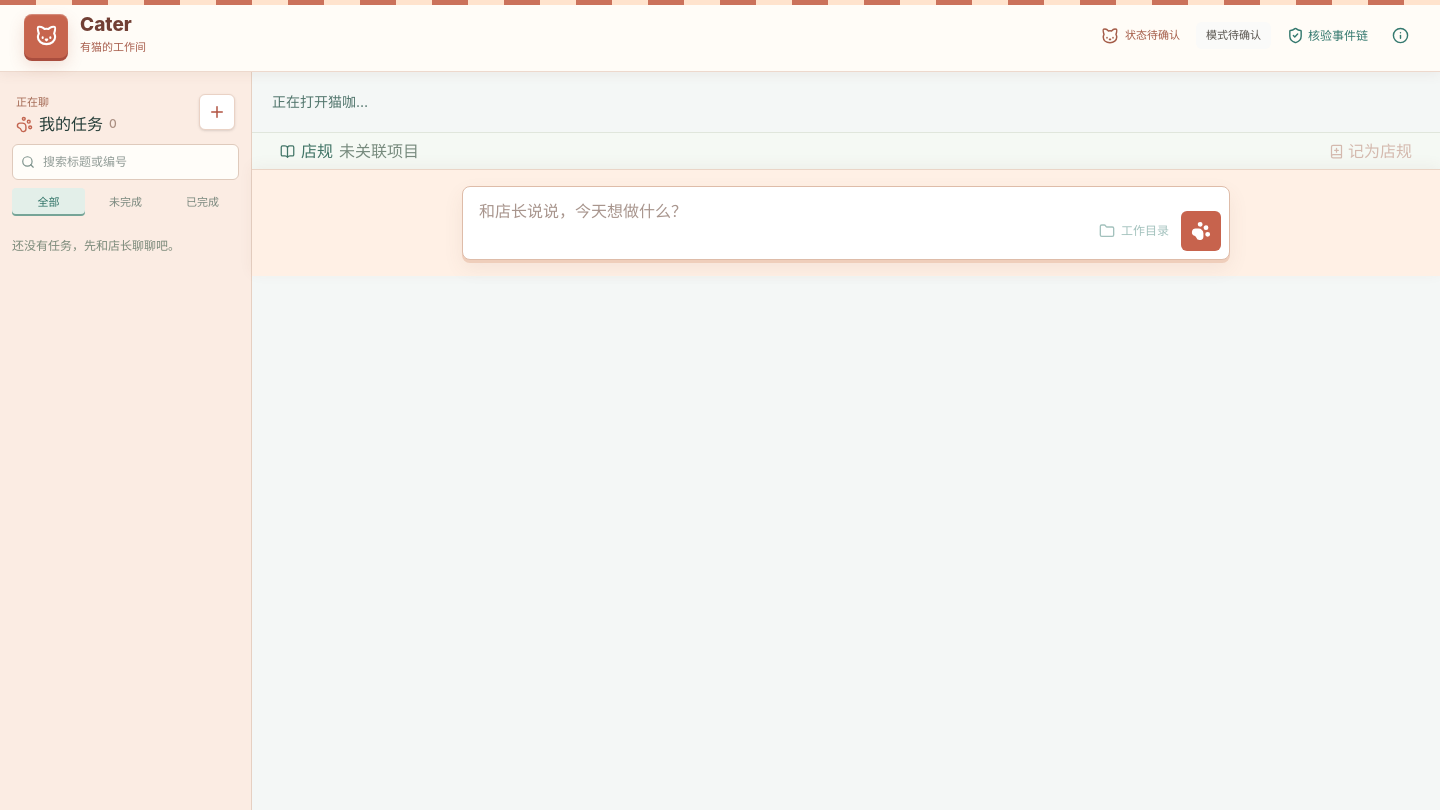
Test: 备用名单迟到失败不污染已就绪伙伴资料或聊天错误
Click the button with aria-label "今天在店里". click: click(1140, 36)
box: [1093,20,1188,50]
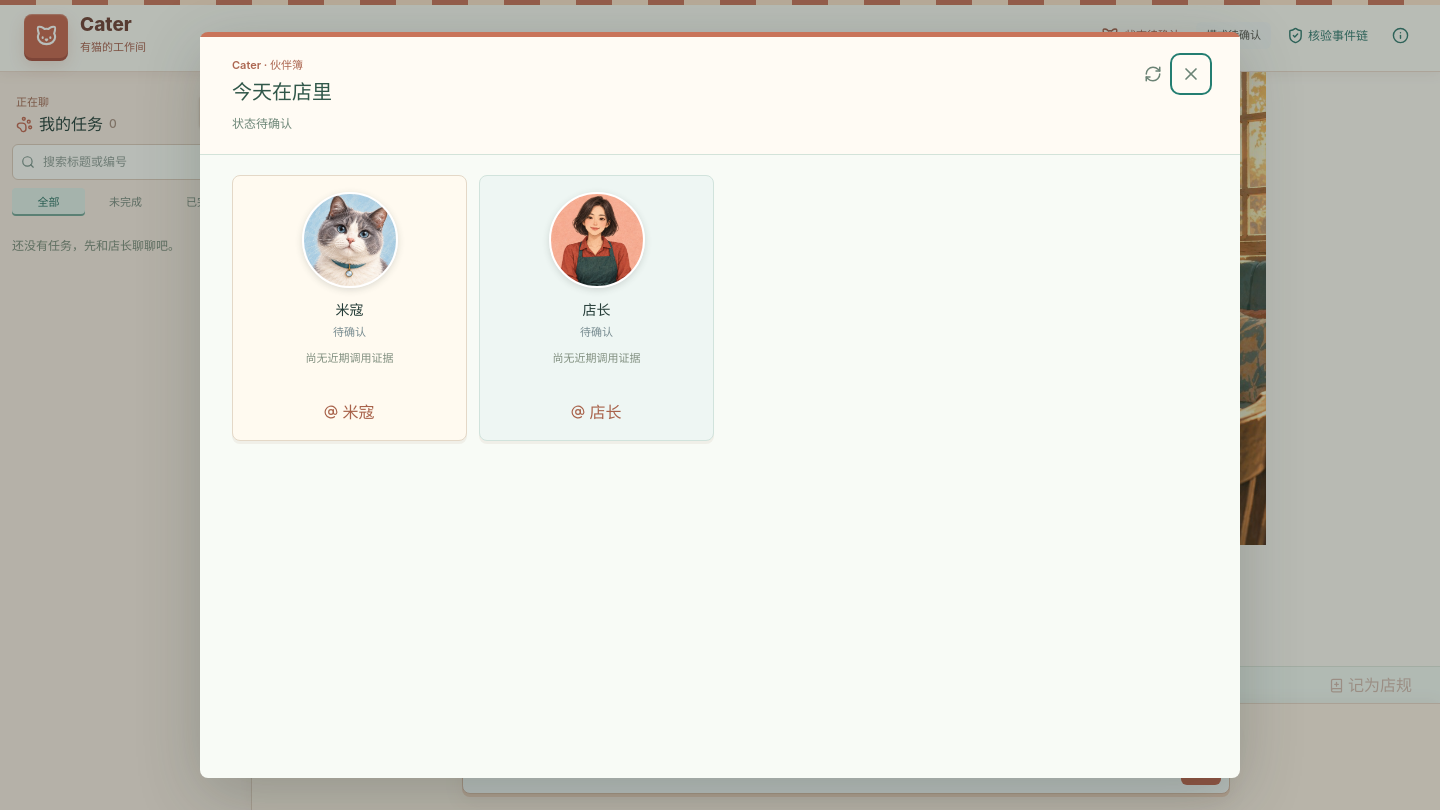
expect the button with aria-label "点名 米寇" is shown: met, box [324,400,374,424]
expect the message "正在打开猫咖…" is gone: met
Click the button named "关闭伙伴页". click: click(1191, 74)
box: [1174,57,1208,91]
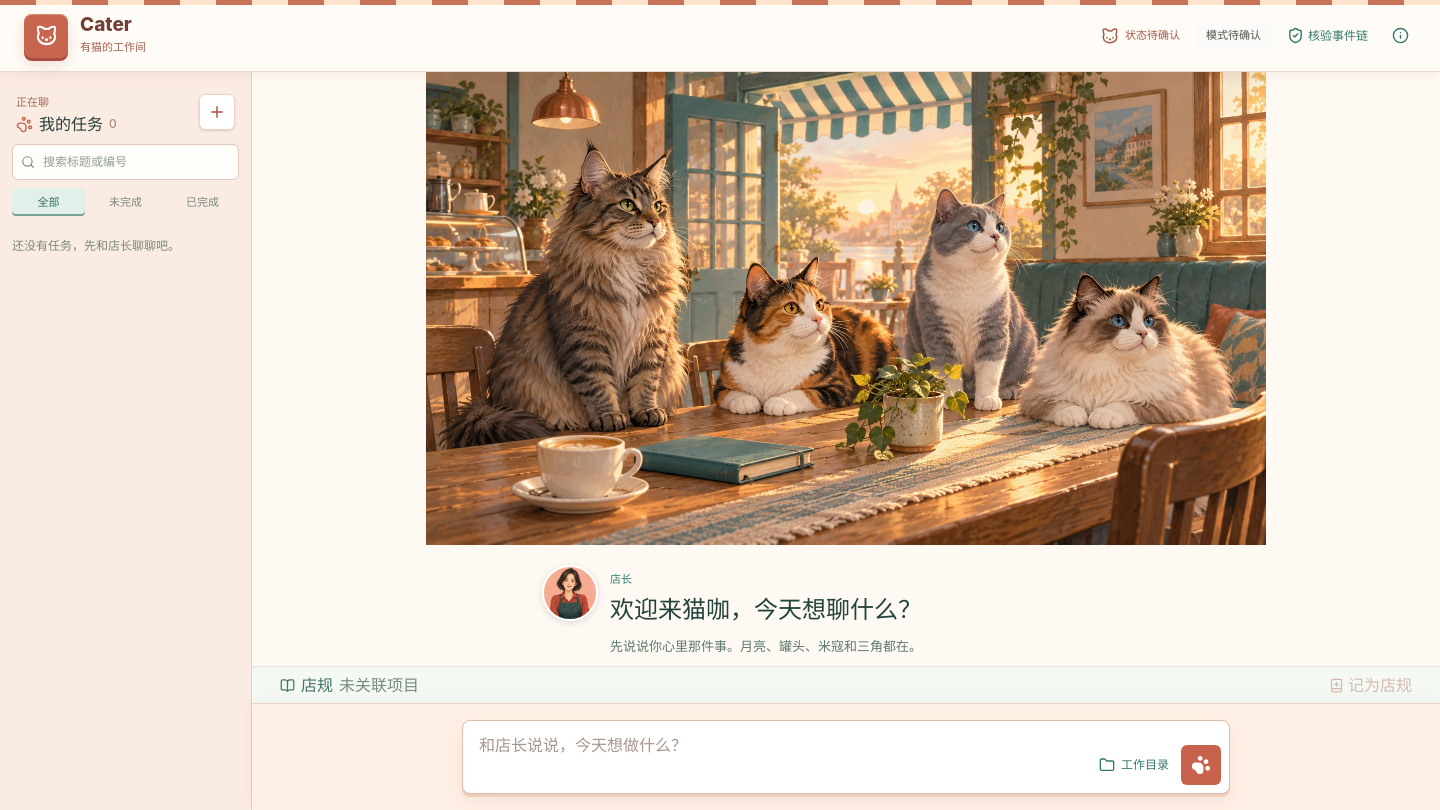
expect the message "正在打开猫咖…" is not shown: met
expect the dialog is gone: met
